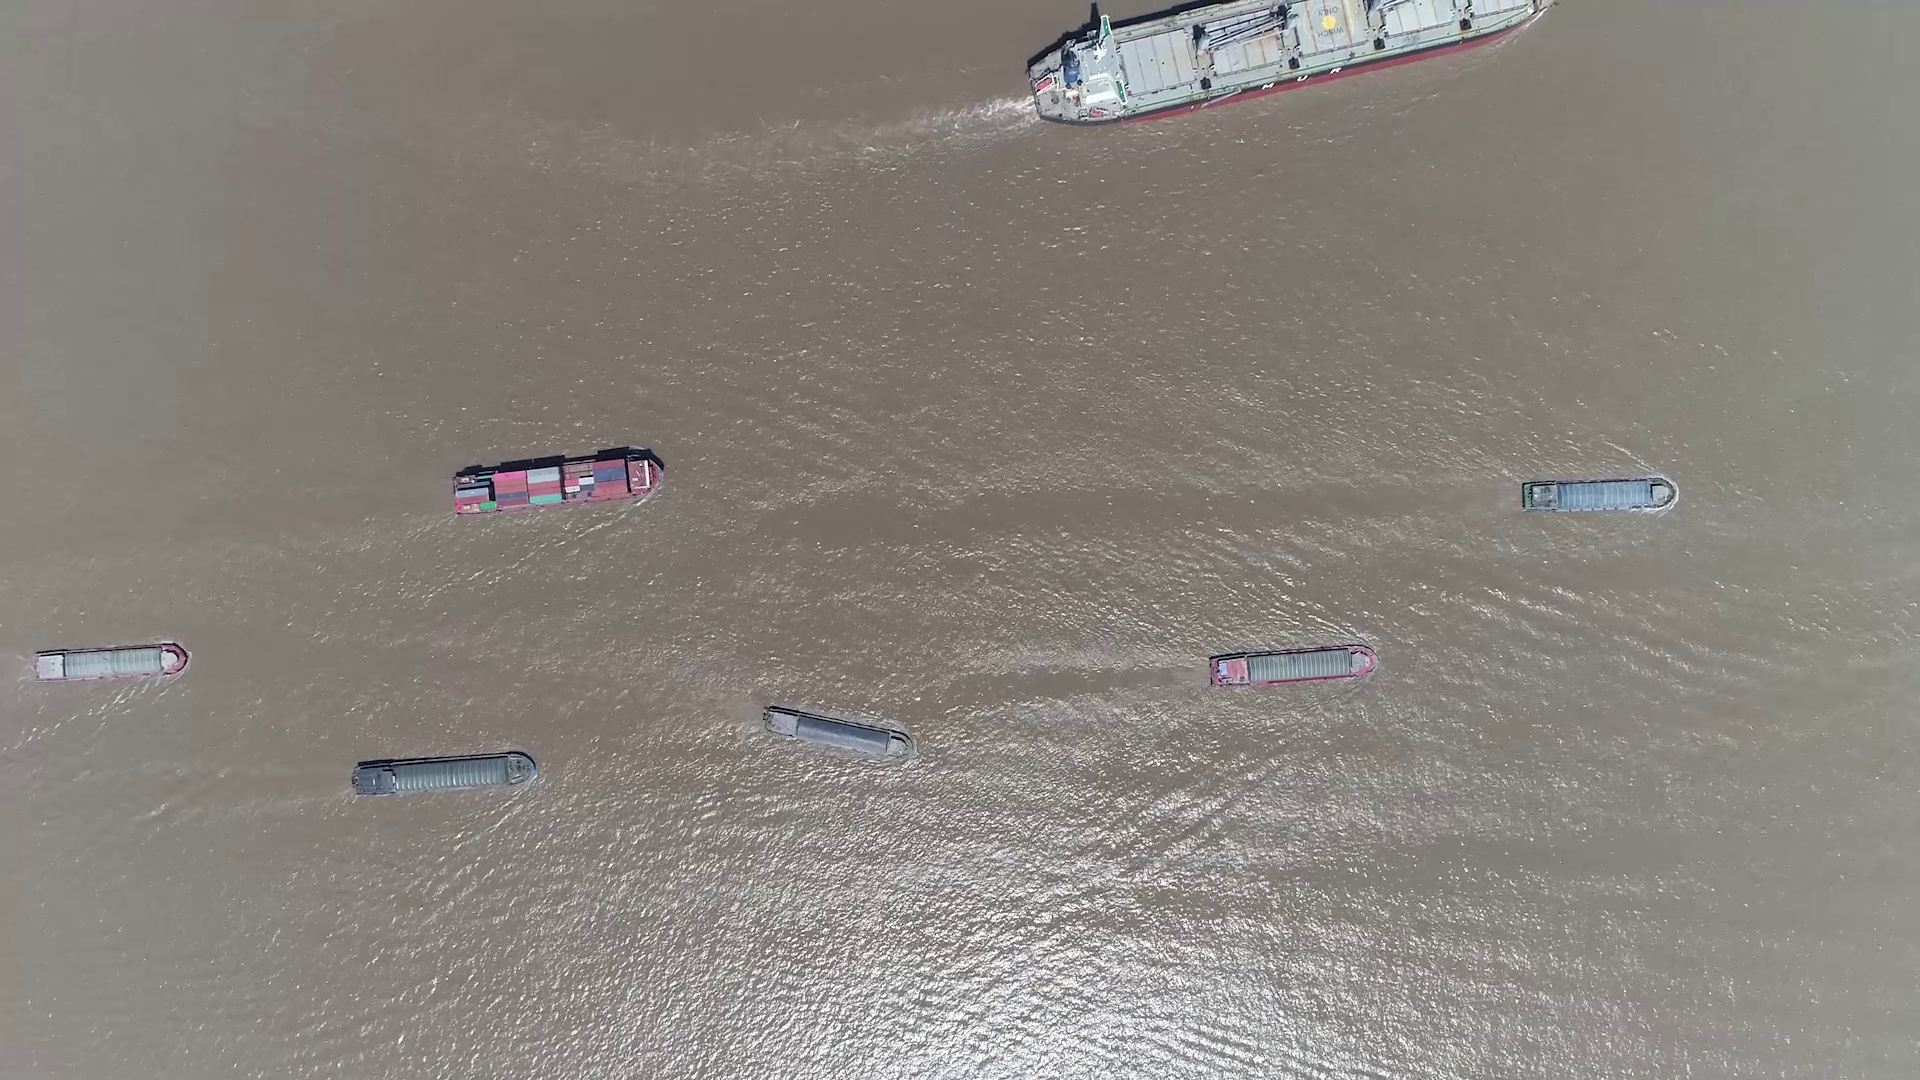ship: (1027, 1, 1552, 124), (448, 448, 663, 513), (351, 752, 539, 796), (762, 705, 910, 760), (1209, 646, 1377, 687), (30, 644, 189, 683), (1520, 477, 1675, 512)
